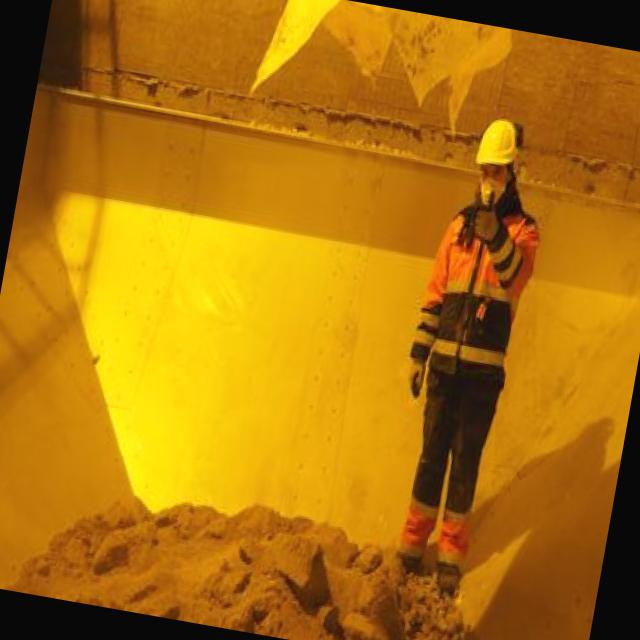helmet: (471, 113, 524, 175)
vest: (396, 196, 550, 407)
